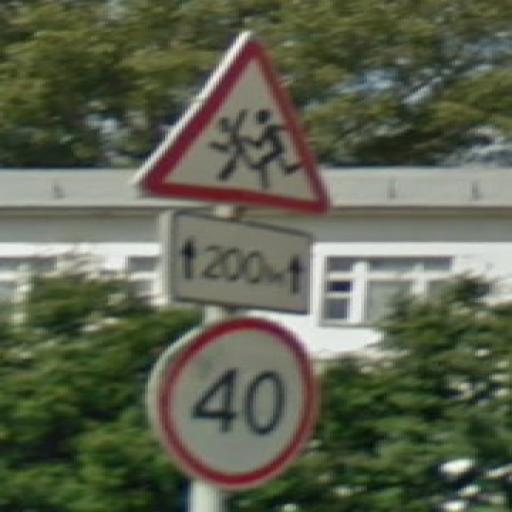traffic_sign: (138, 29, 345, 216), (152, 319, 320, 492)
